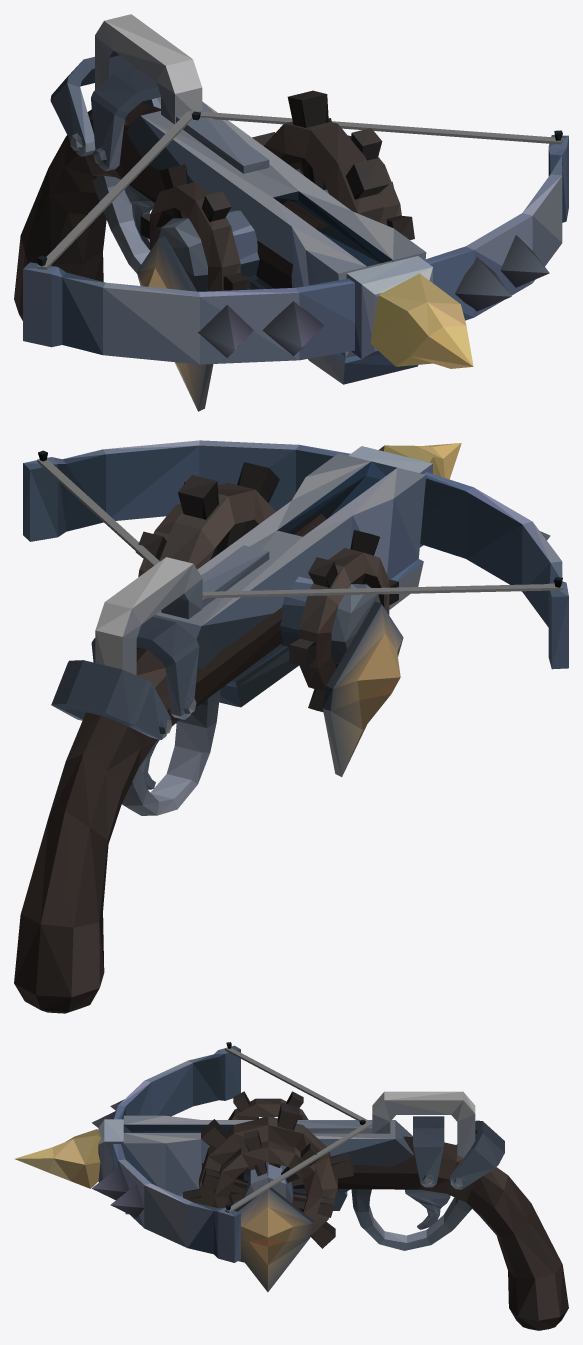
Rendered from weapon_crossbow_silver_3.fbx.
3 renders of one model, top to bottom at view 1: azimuth 30°, elevation 25°; view 2: azimuth 150°, elevation 25°; view 3: azimuth 270°, elevation 25°, orthographic. The views are drawn at different scales.
Parts seen in each view (by area): view 1: weapon_crossbow_silver_3; view 2: weapon_crossbow_silver_3; view 3: weapon_crossbow_silver_3.
Boxes of the visible parts, x1,y1,x2,y2 form: weapon_crossbow_silver_3: (14, 14, 568, 411); weapon_crossbow_silver_3: (14, 440, 568, 1013); weapon_crossbow_silver_3: (14, 1042, 568, 1330).
Bounding box in the file's own units: 0.8673 × 0.5559 × 1.19.
